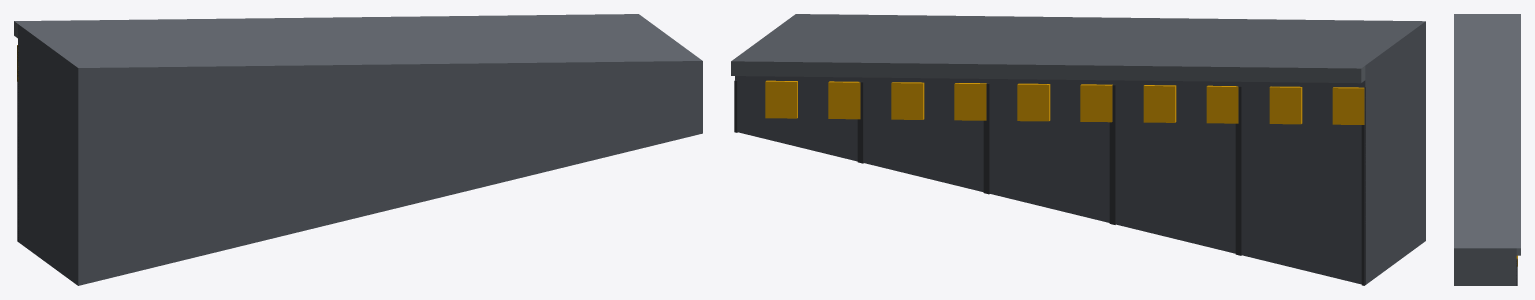
The picture shows the model from 3 angles, left to right: view 1: azimuth 30°, elevation 25°; view 2: azimuth 150°, elevation 25°; view 3: azimuth 270°, elevation 25°; orthographic projection. The views are drawn at different scales.
Visible parts, largest first — view 1: b1wf; view 2: b1wf; view 3: b1wf.
Boxes of the visible parts, left/top/right/bottom form: b1wf: left=14, top=14, right=702, bottom=285; b1wf: left=731, top=14, right=1425, bottom=285; b1wf: left=1454, top=14, right=1520, bottom=285.
Bounding box in the file's own units: 9 × 3 × 1.6.
